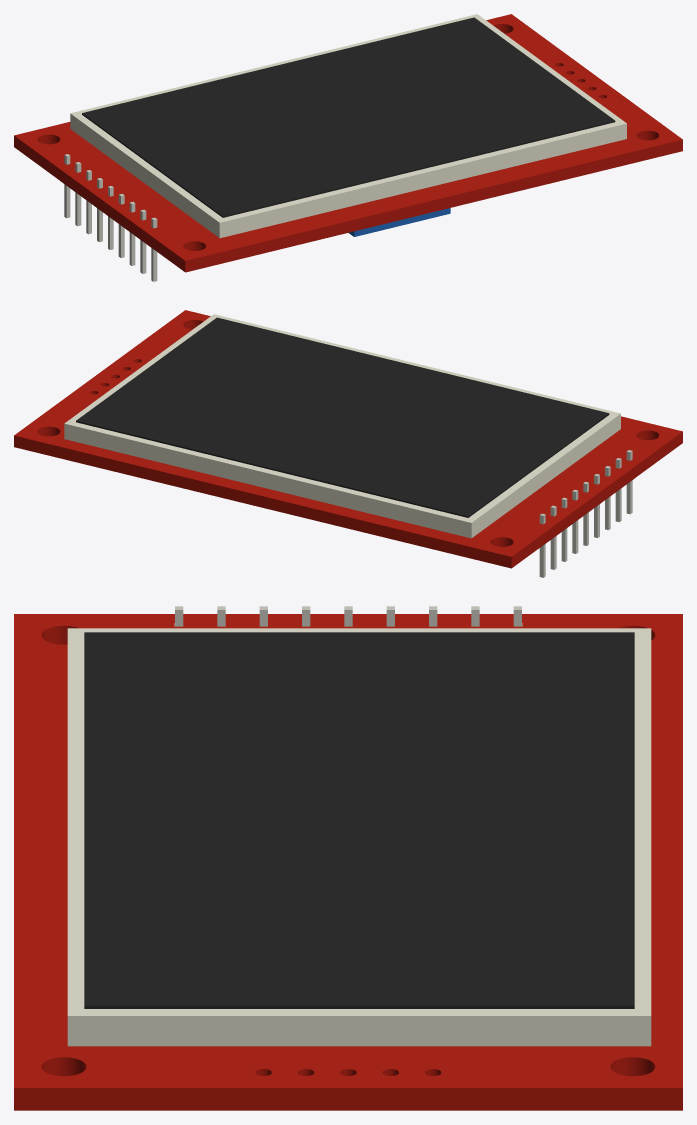
The picture shows the model from 3 angles, top to bottom: view 1: azimuth 30°, elevation 25°; view 2: azimuth 150°, elevation 25°; view 3: azimuth 270°, elevation 25°; orthographic projection. The views are drawn at different scales.
Visible parts, largest first — view 1: 0_0_0_0, 0.4166666666666667_0_0_0, 0.75_0.75_0.6666666666666666_0, 0.6666666666666666_0.6666666666666666_0.5833333333333334_0.8, 0_0.16666666666666666_0.5_0; view 2: 0_0_0_0, 0.4166666666666667_0_0_0, 0.75_0.75_0.6666666666666666_0, 0.6666666666666666_0.6666666666666666_0.5833333333333334_0.8; view 3: 0_0_0_0, 0.4166666666666667_0_0_0, 0.75_0.75_0.6666666666666666_0, 0.6666666666666666_0.6666666666666666_0.5833333333333334_0.8.
Boxes of the visible parts, bbox=[...] form: 0_0_0_0: bbox=[60, 17, 615, 248]; 0.4166666666666667_0_0_0: bbox=[14, 14, 682, 272]; 0.75_0.75_0.6666666666666666_0: bbox=[70, 14, 626, 238]; 0.6666666666666666_0.6666666666666666_0.5833333333333334_0.8: bbox=[64, 154, 157, 281]; 0_0.16666666666666666_0.5_0: bbox=[348, 208, 450, 236]; 0_0_0_0: bbox=[76, 317, 627, 544]; 0.4166666666666667_0_0_0: bbox=[14, 310, 682, 568]; 0.75_0.75_0.6666666666666666_0: bbox=[64, 314, 620, 538]; 0.6666666666666666_0.6666666666666666_0.5833333333333334_0.8: bbox=[539, 450, 632, 577]; 0_0_0_0: bbox=[84, 632, 634, 1008]; 0.4166666666666667_0_0_0: bbox=[14, 614, 682, 1110]; 0.75_0.75_0.6666666666666666_0: bbox=[67, 628, 651, 1046]; 0.6666666666666666_0.6666666666666666_0.5833333333333334_0.8: bbox=[175, 606, 521, 626].
Size of the model in its own units: 6.72 by 0.9198 by 4.01.
